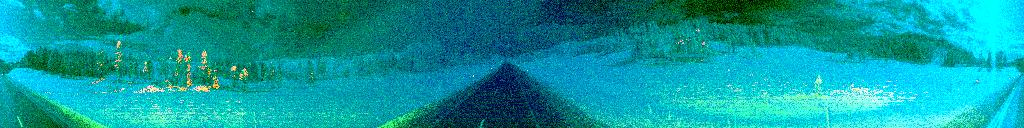pole: (823, 102, 832, 128), (251, 108, 260, 128)
